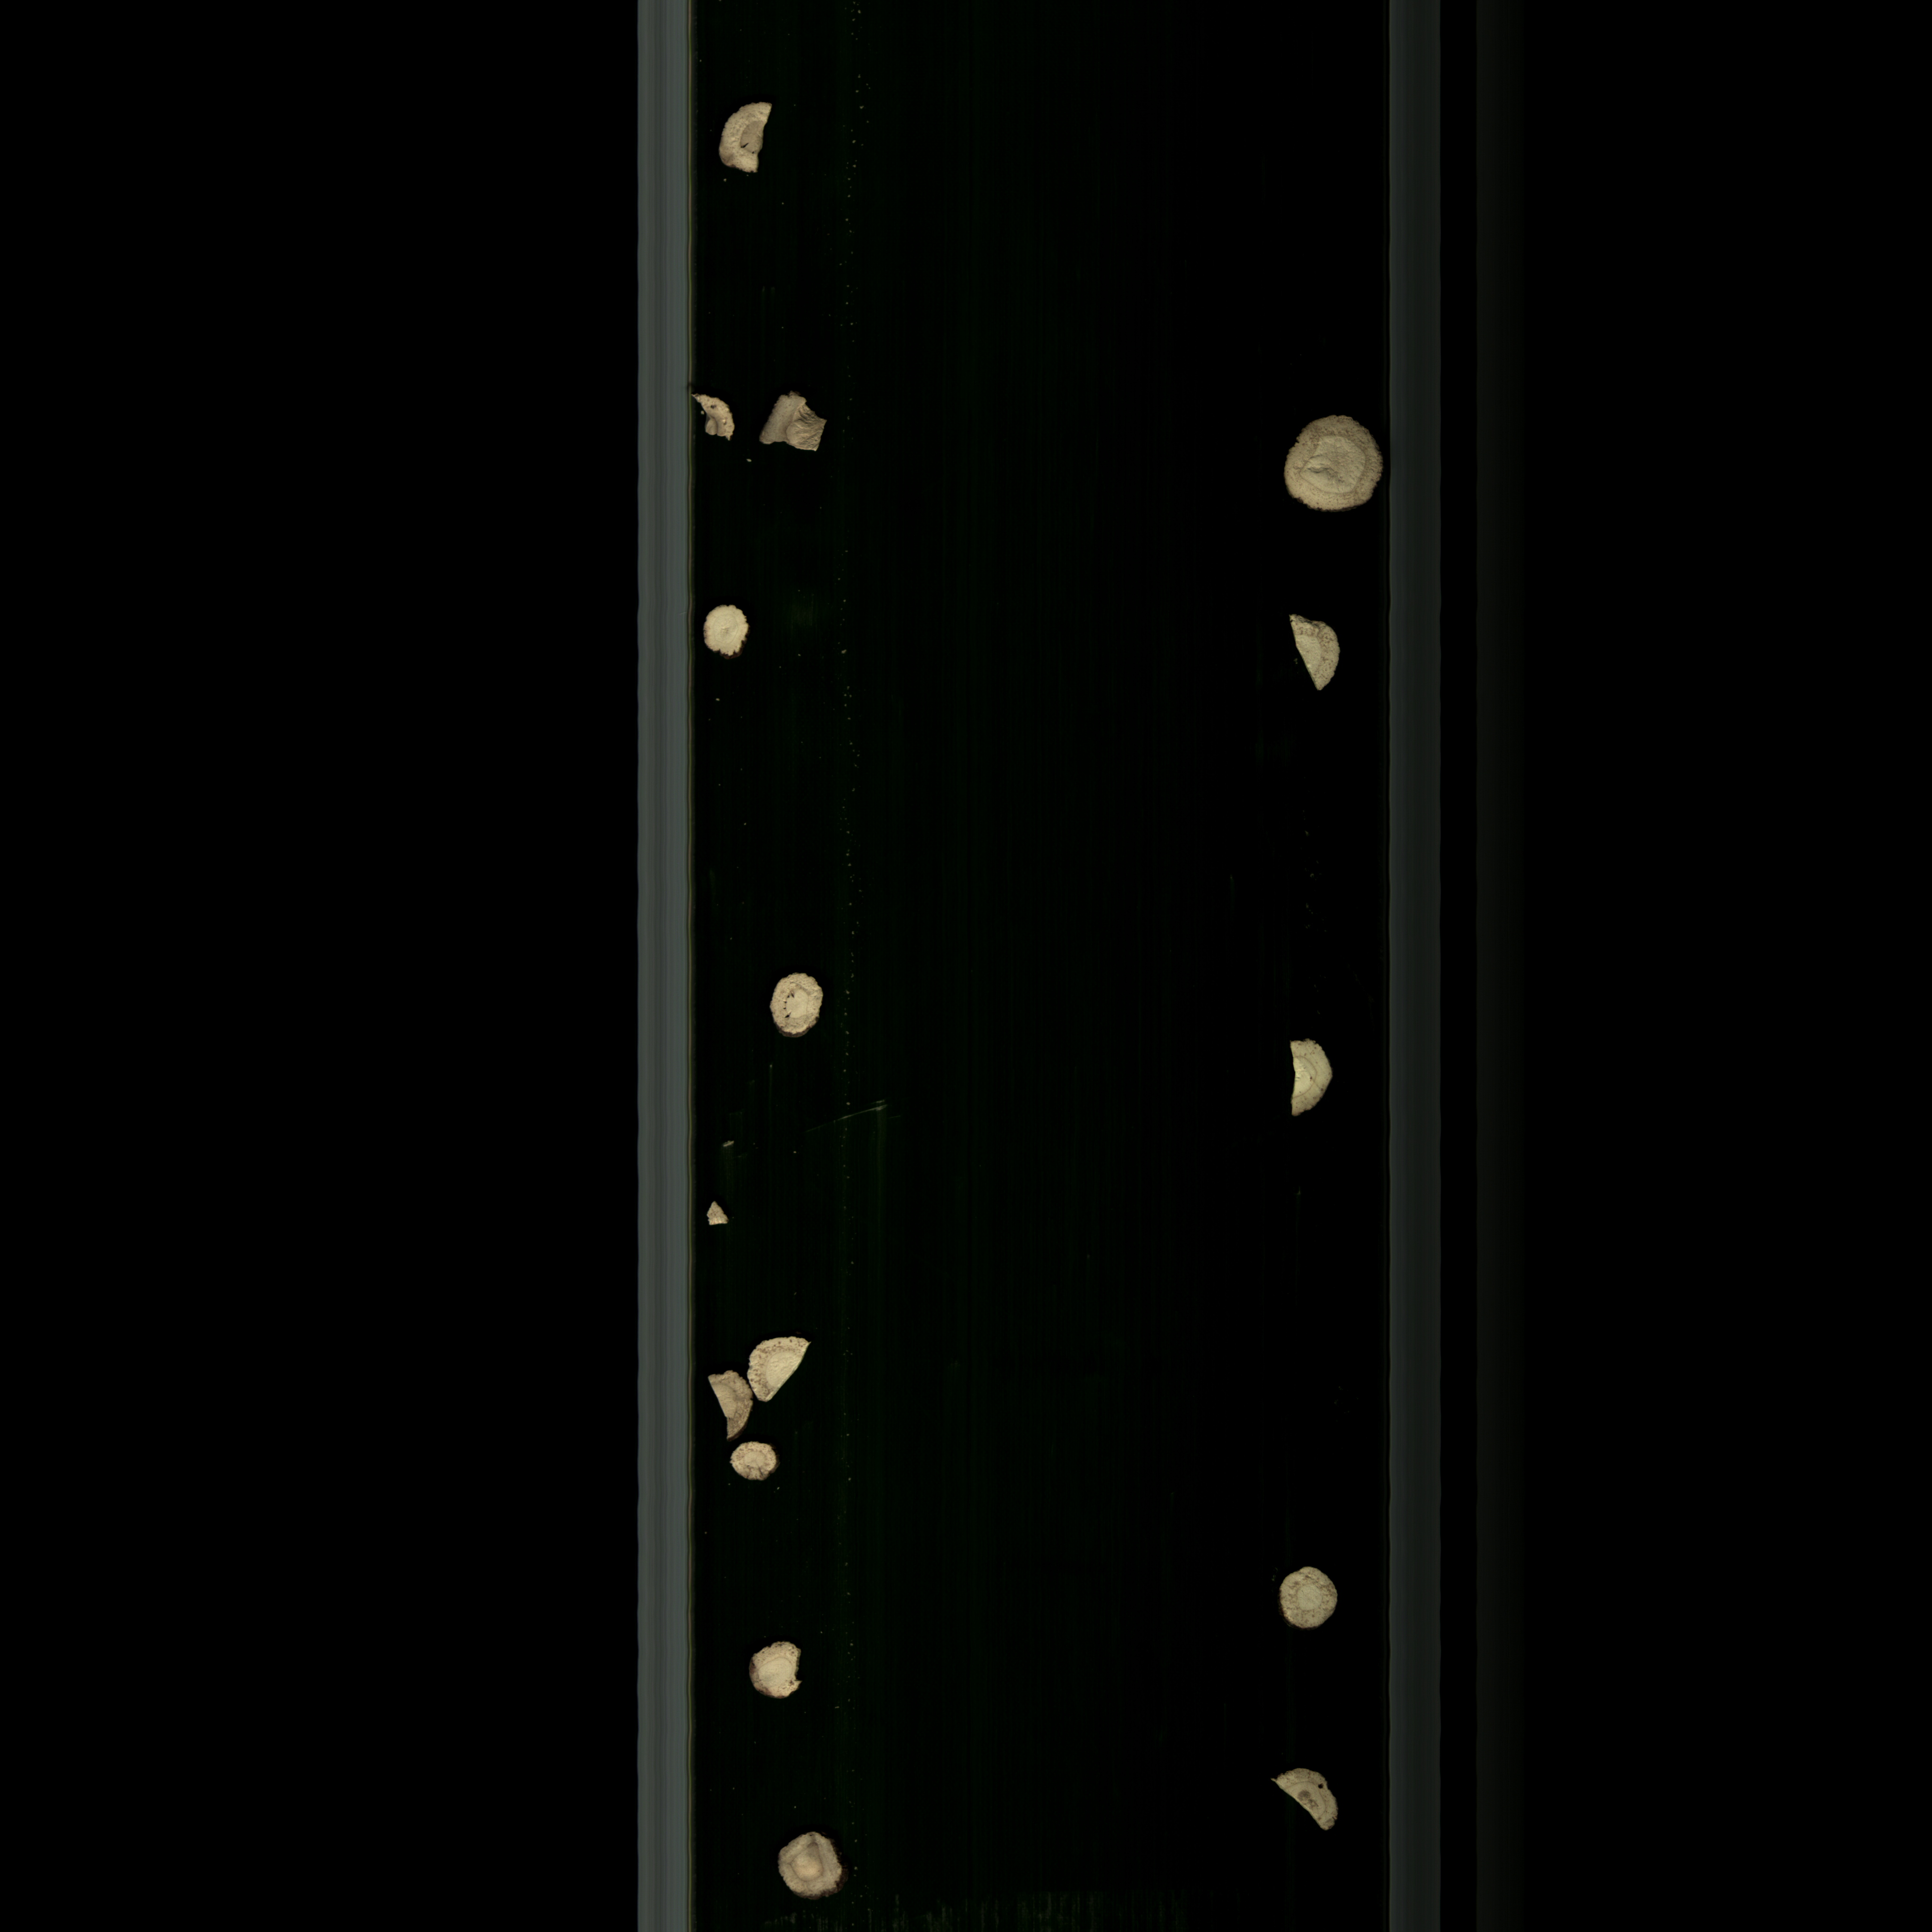debris: (1265, 602, 1348, 697), (1261, 1757, 1345, 1852), (1267, 1024, 1339, 1131), (761, 386, 839, 464), (743, 1316, 803, 1405)
distortion: (736, 1635, 809, 1706)
dreg: (697, 1361, 754, 1435), (683, 386, 736, 448), (704, 1198, 734, 1233)
hole: (763, 964, 830, 1042)
moldy: (761, 1822, 860, 1902), (706, 90, 775, 179)
